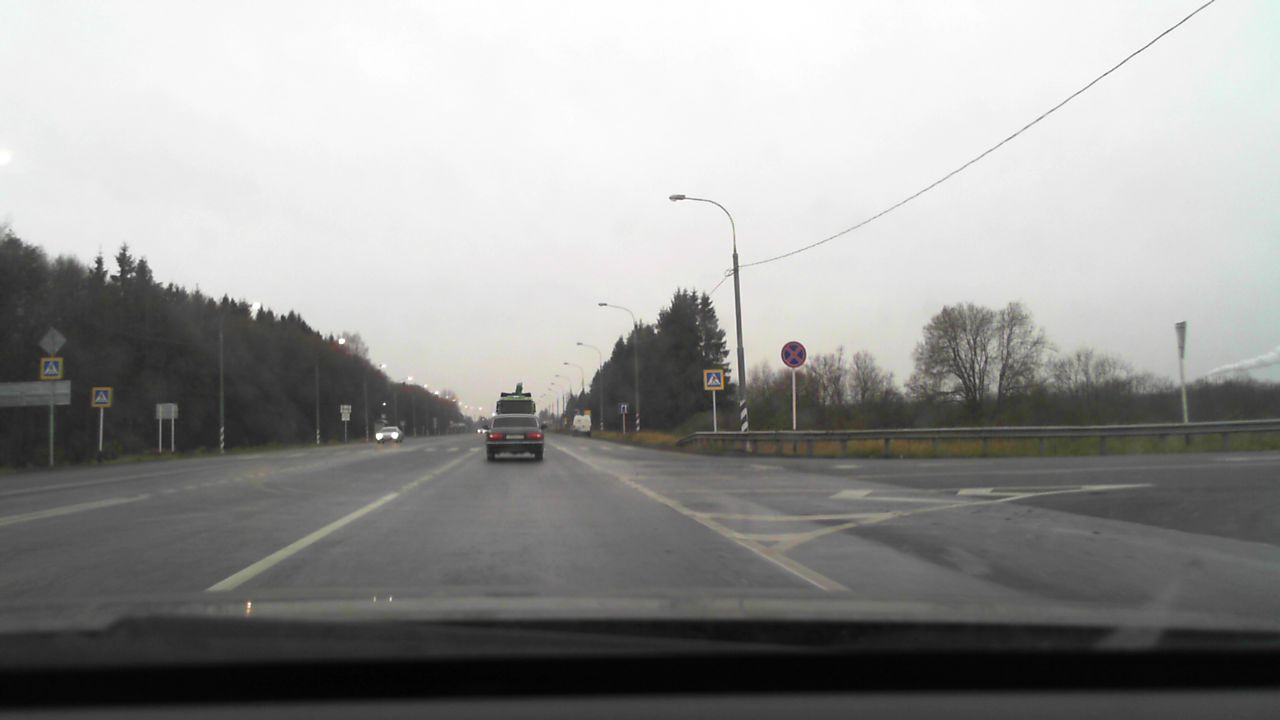No Parking: (780, 341, 806, 368)
